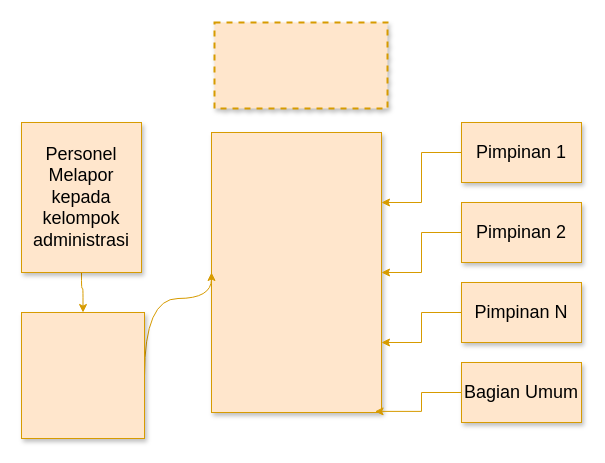
This 605x463 diagram has some shape labels left out. Each missing label, with the centre of its shape:
"Alur Pengajuan Cuti berbasi Web" belongs at (301,66).
"Aplikasi Web" belongs at (297,274).
"Kelompok Adminstrasi memproses melalui Aplikasi Web" belongs at (83,377).
